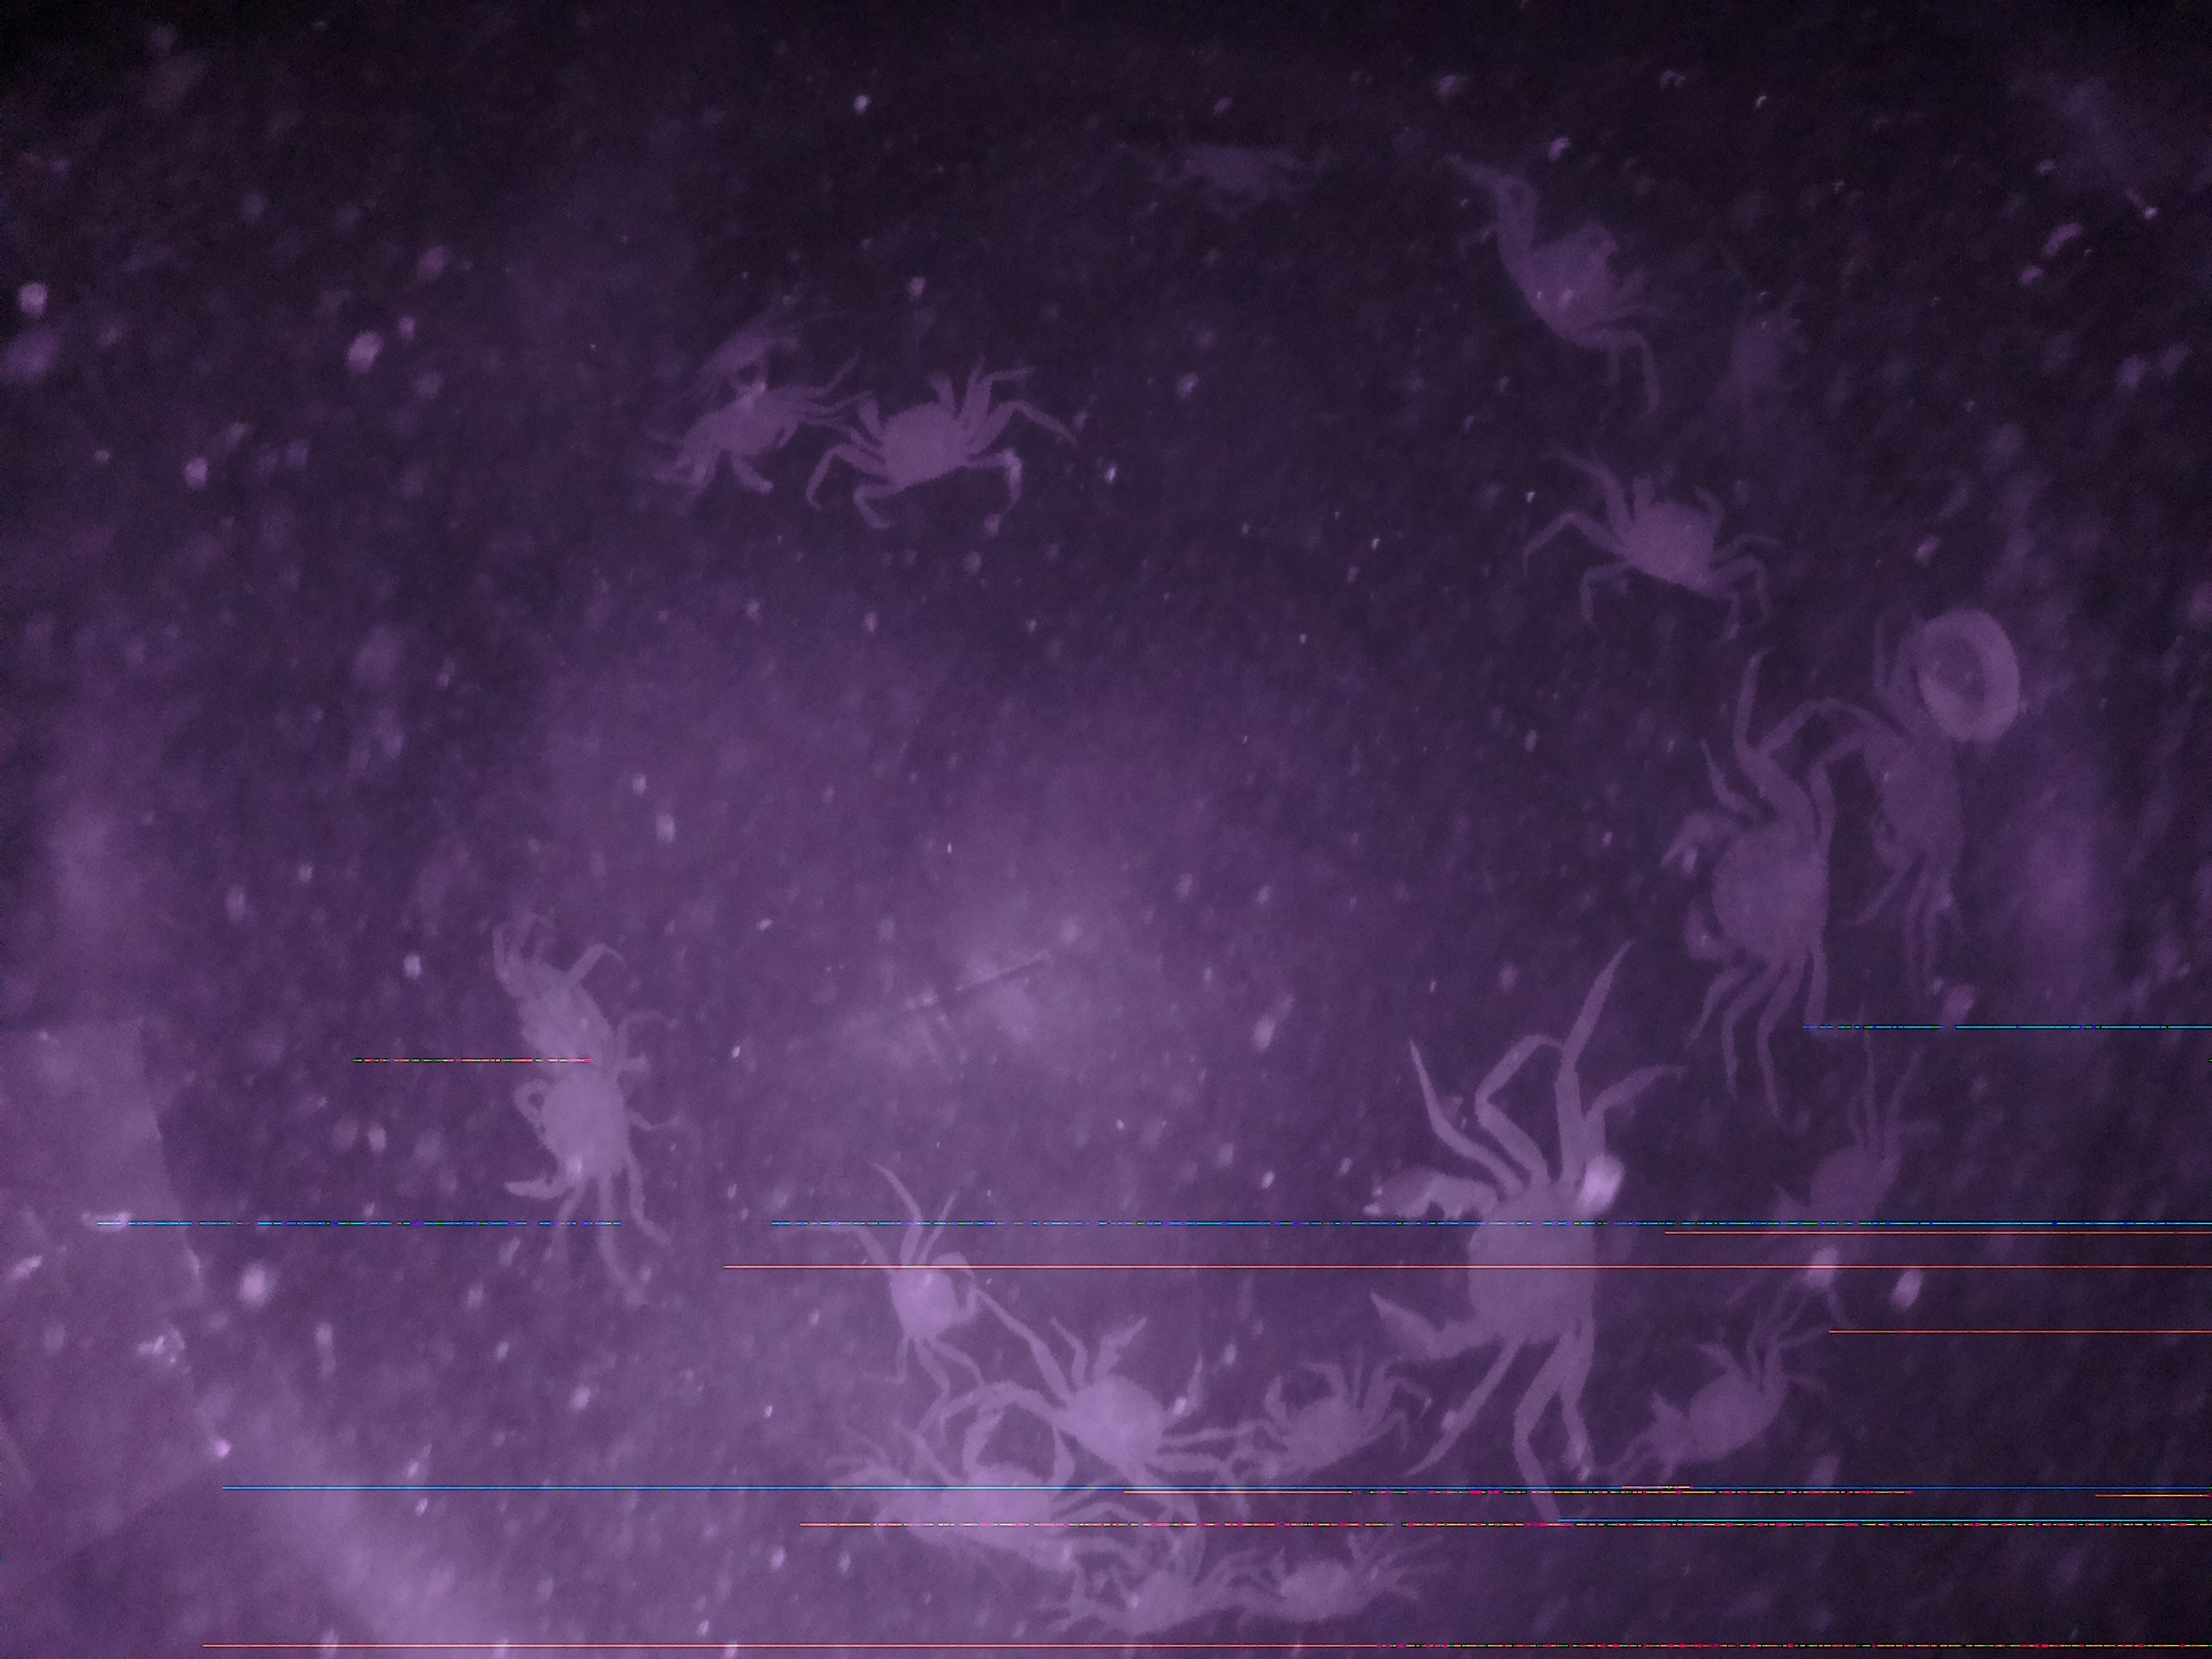Crab: (1651, 777, 1846, 981), (502, 1051, 664, 1218), (841, 354, 989, 511), (1573, 462, 1737, 599)
